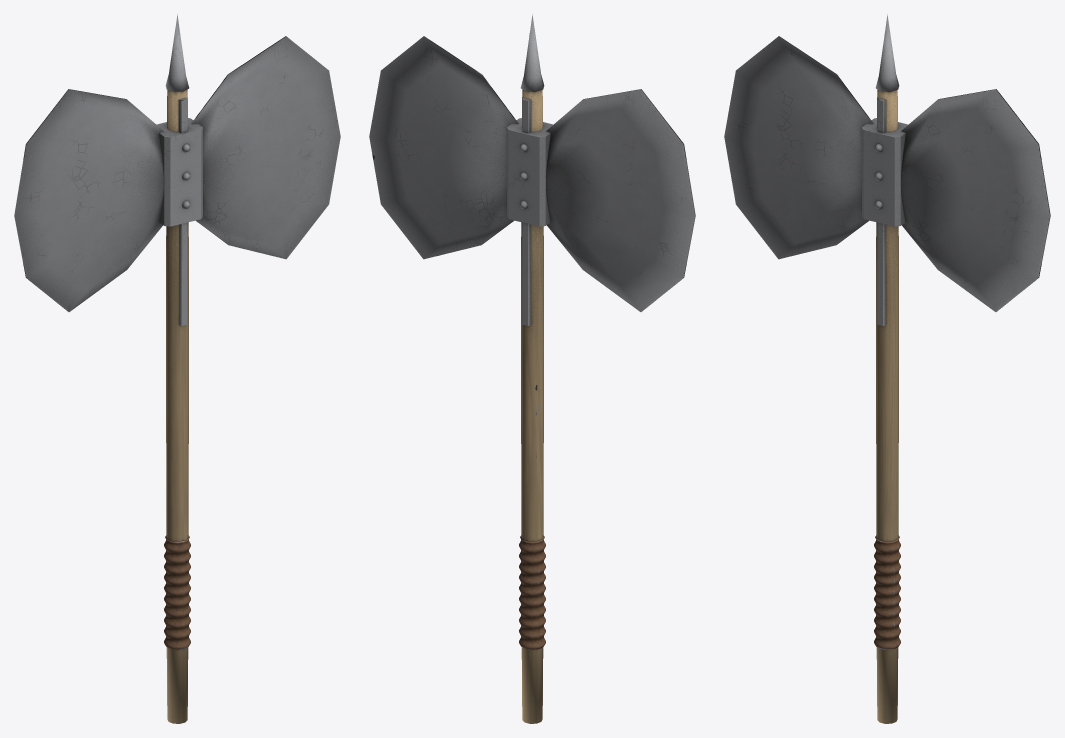
File: greataxe.glb
3 renders of one model, left to right at view 1: azimuth 30°, elevation 25°; view 2: azimuth 150°, elevation 25°; view 3: azimuth 330°, elevation 25°, orthographic.
Parts seen in each view (by area): view 1: greataxe; view 2: greataxe; view 3: greataxe.
Boxes of the visible parts, x1,y1,x2,y2 form: greataxe: [14, 14, 340, 723]; greataxe: [369, 14, 695, 723]; greataxe: [724, 14, 1050, 723].
Bounding box in the file's own units: 1.68 × 3.48 × 0.188.
1 material, 1 textured.
